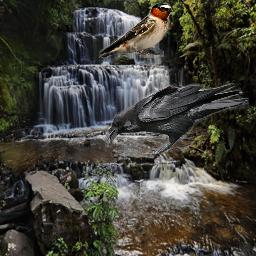Crow: (105, 83, 249, 154)
Swallow: (98, 2, 173, 58)
